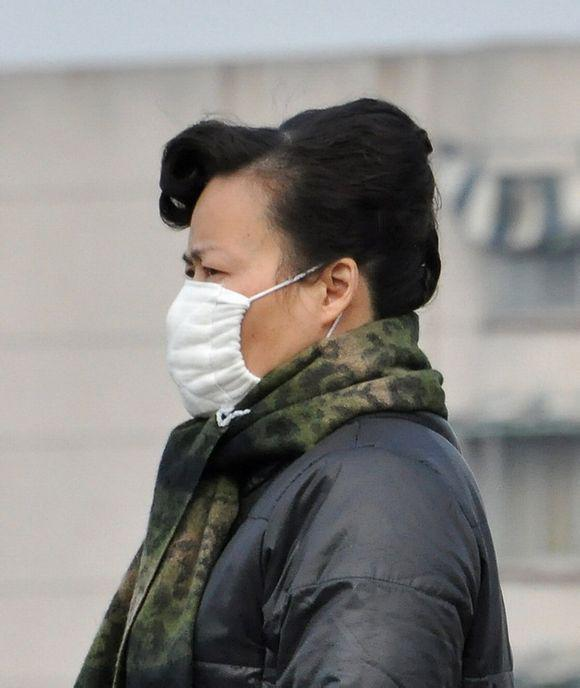OK: (162, 245, 339, 411)
